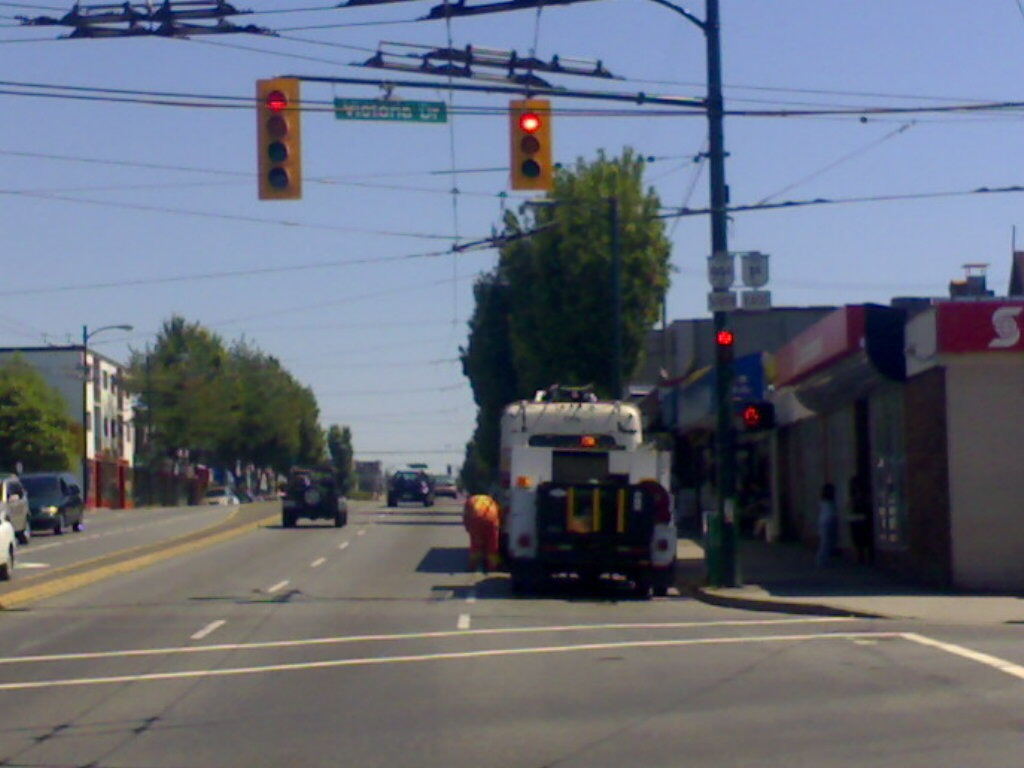red_light: (258, 83, 296, 195), (515, 102, 551, 186), (716, 322, 736, 384)
